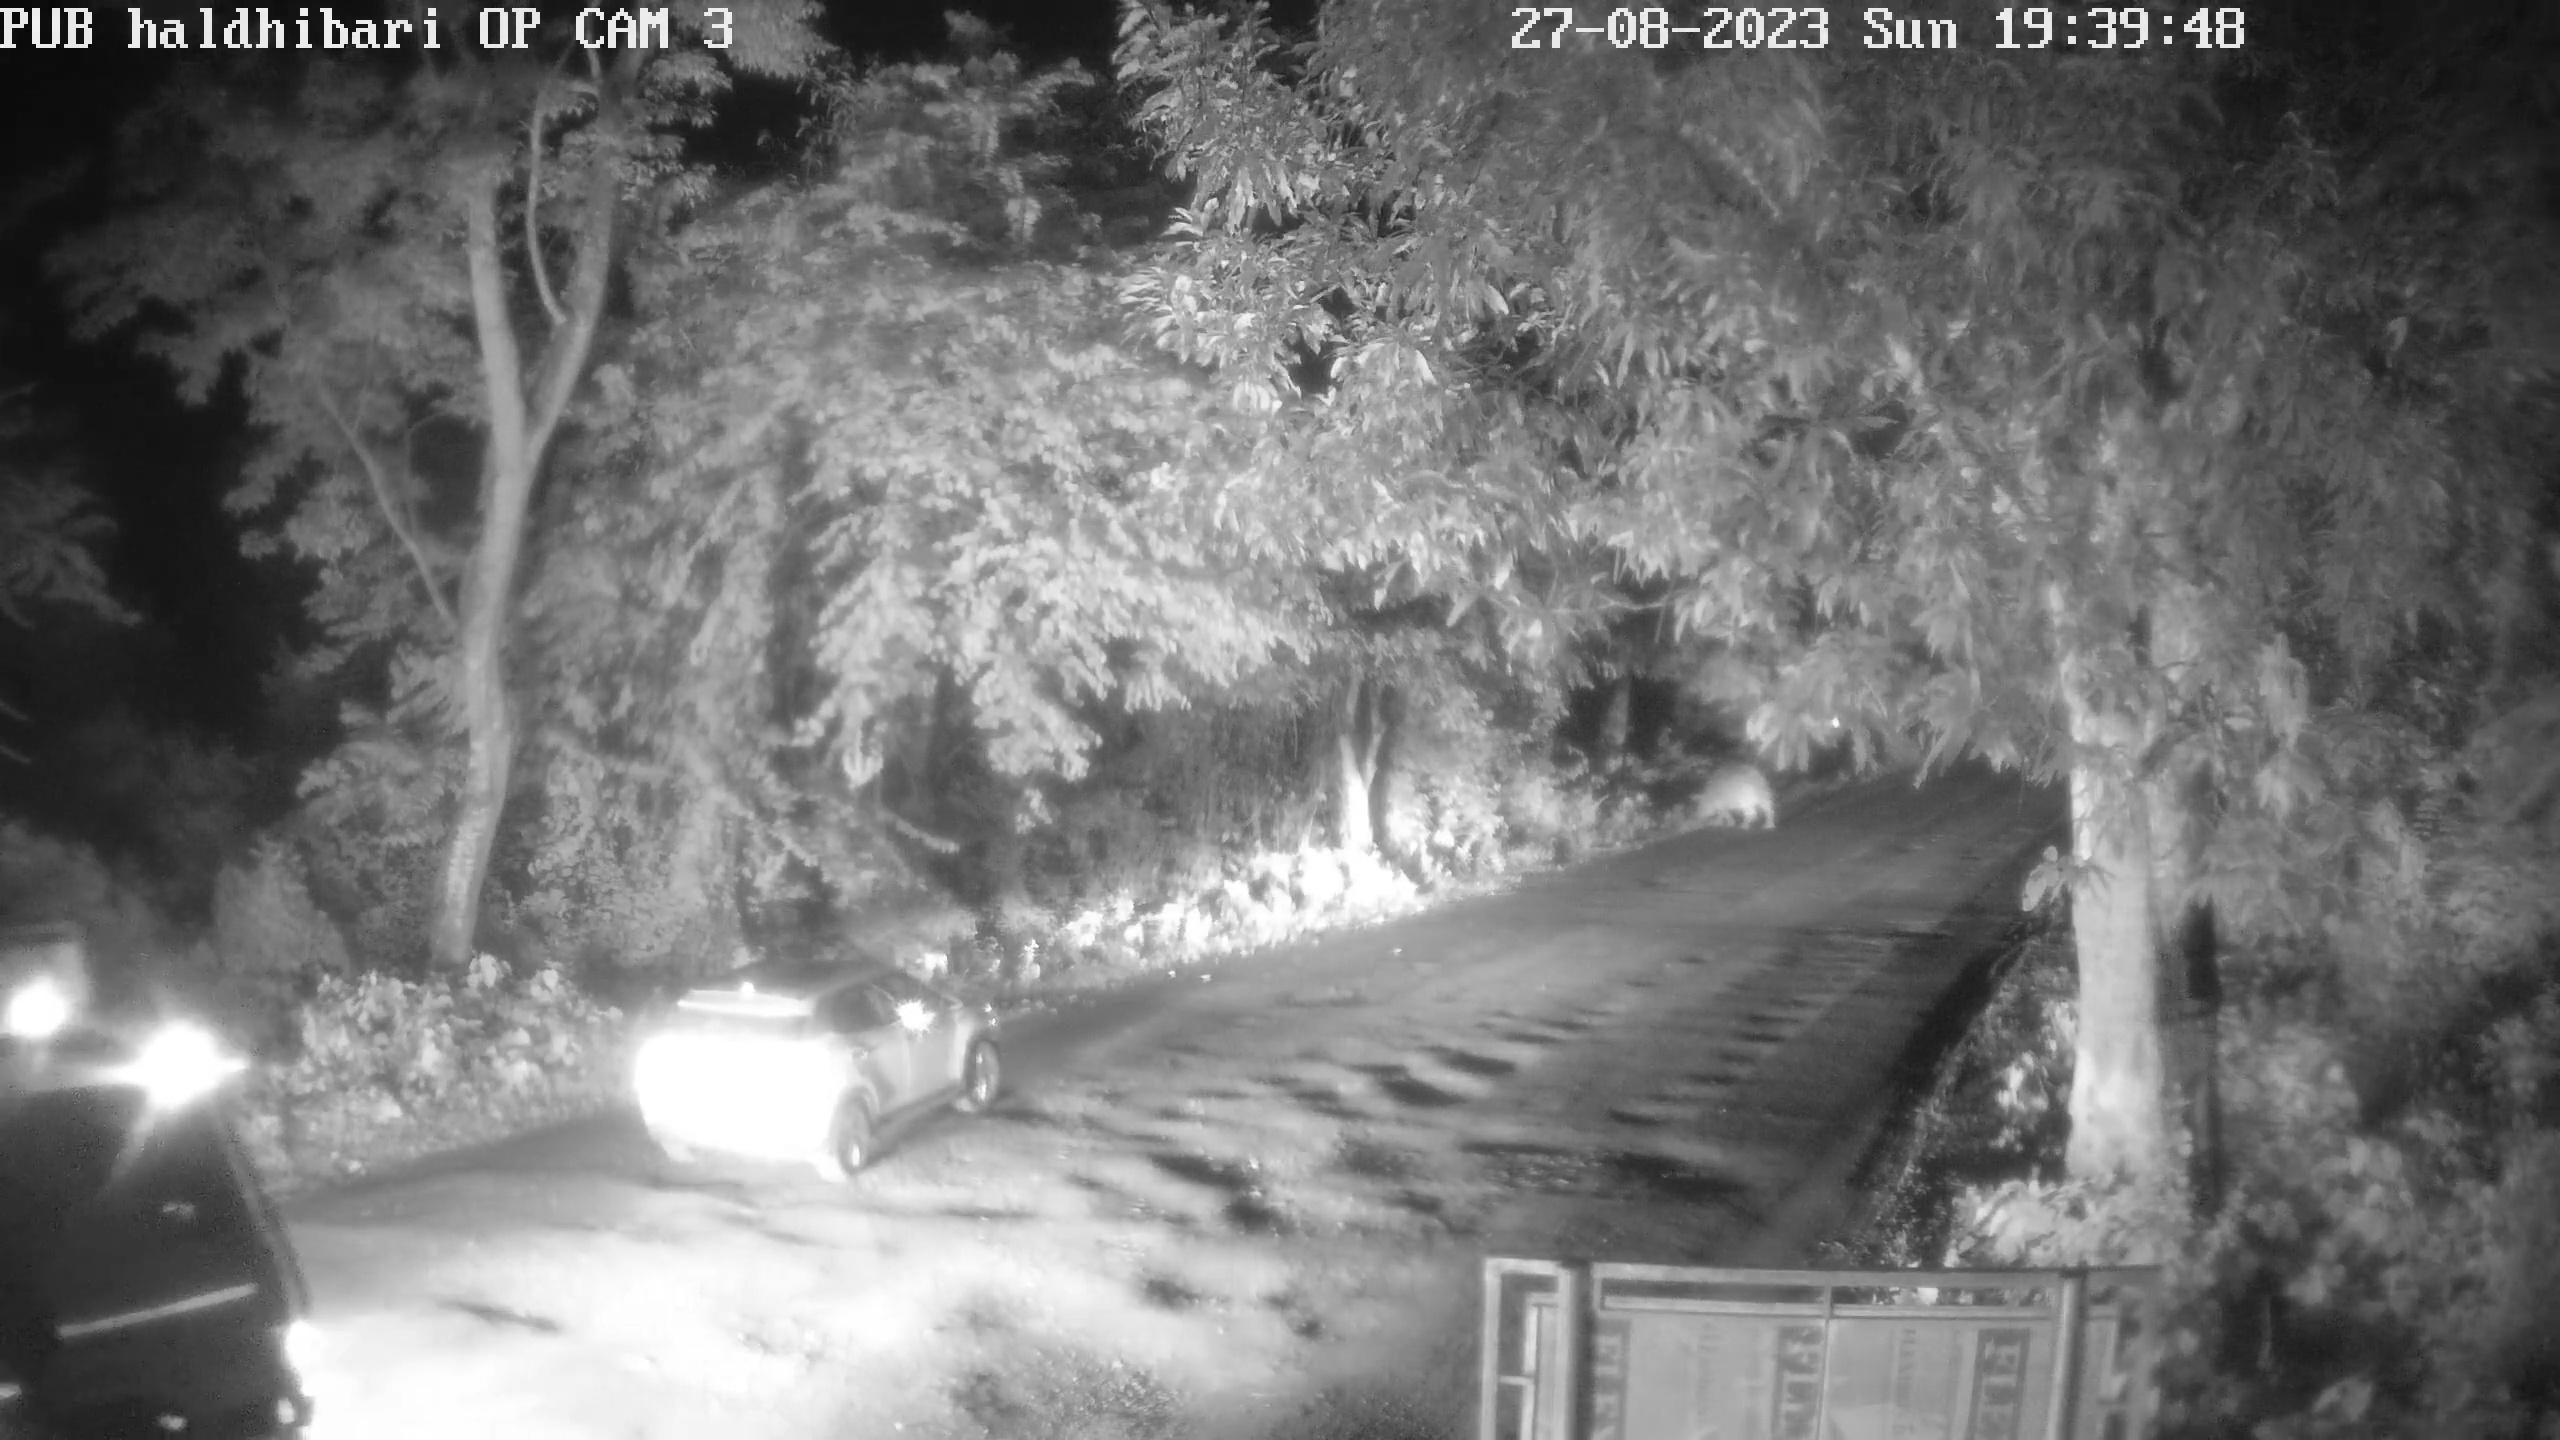rhinos: (1693, 745, 1774, 830)
